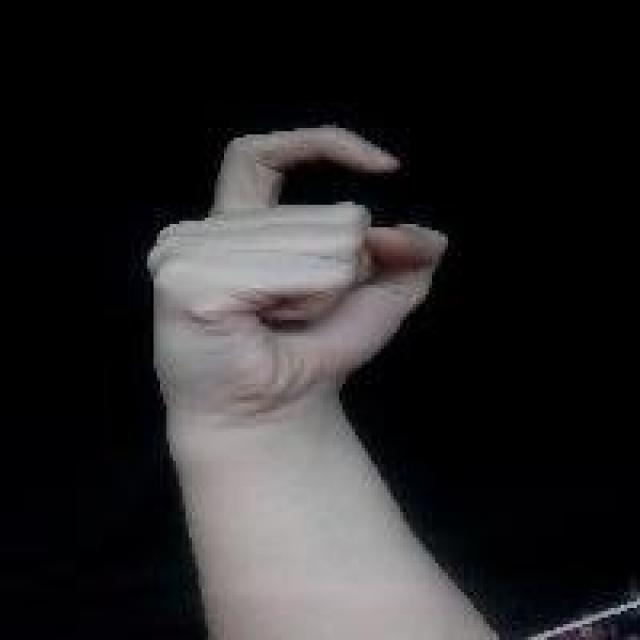X: (142, 116, 453, 434)
